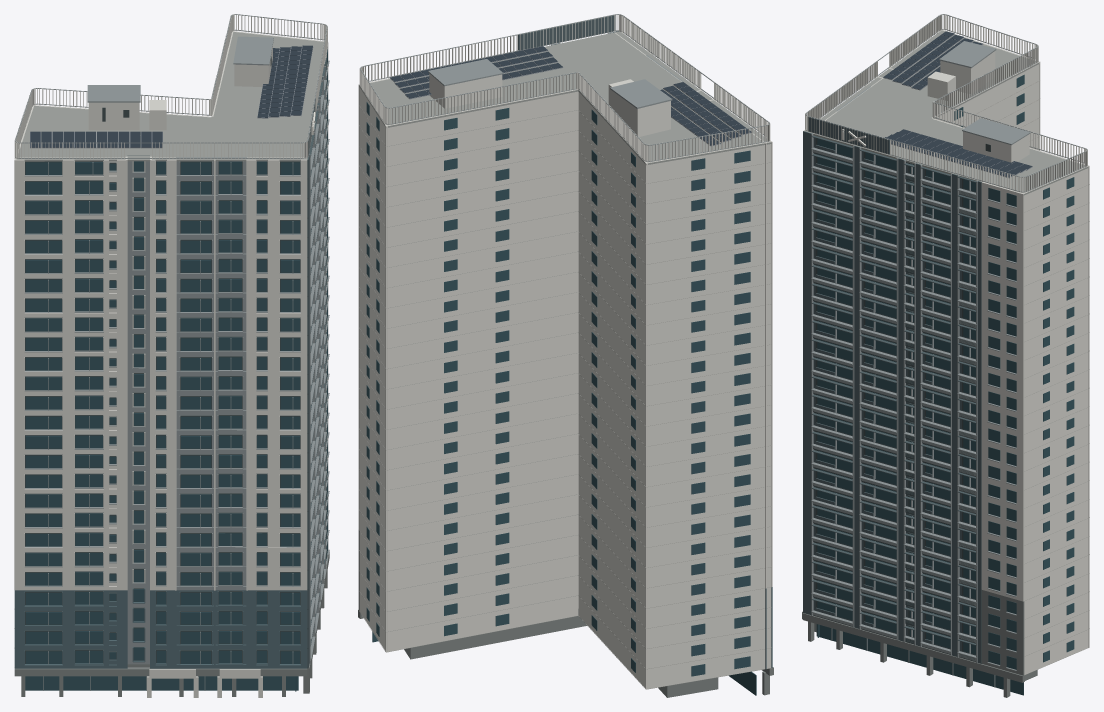
Rendered from bespoke-maple-xi-204.glb.
The picture shows the model from 3 angles, left to right: view 1: azimuth 30°, elevation 25°; view 2: azimuth 150°, elevation 25°; view 3: azimuth 270°, elevation 25°; orthographic projection. The views are drawn at different scales.
Parts seen in each view (by area): view 1: Maple204_interior_inset_volume, Maple204_SW_individual_window_glass, Maple204_SW_central_recess_back, Maple204_SW_window_reveals, Maple204_L_plan_roof_slab, Maple204_SW_recessed_backing, Maple204_SW_arm_PV_bank_photovoltaic_cells, Maple204_SE_dark_opaque_back, Maple204_ground_internal_core, Maple204_SW_arm_PV_bank_frame; view 2: Maple204_interior_inset_volume, Maple204_SW_individual_window_glass, Maple204_L_plan_roof_slab, Maple204_rear_estimated_panel_seam, Maple204_SW_central_recess_back, Maple204_SW_arm_PV_bank_photovoltaic_cells, Maple204_ground_internal_core, Maple204_SE_dark_opaque_back, Maple204_SW_arm_PV_bank_frame; view 3: Maple204_interior_inset_volume, Maple204_SE_dark_opaque_back, Maple204_SW_individual_window_glass, Maple204_SW_central_recess_back, Maple204_L_plan_roof_slab, Maple204_SW_window_reveals, Maple204_ground_internal_core, Maple204_SW_arm_PV_bank_photovoltaic_cells, Maple204_rear_estimated_panel_seam, Maple204_SW_arm_PV_bank_frame.
Boxes of the visible parts, x1,y1,x2,y2 form: Maple204_interior_inset_volume: [14, 14, 328, 697]; Maple204_SW_individual_window_glass: [25, 49, 327, 691]; Maple204_SW_central_recess_back: [15, 14, 329, 690]; Maple204_SW_window_reveals: [25, 56, 308, 668]; Maple204_L_plan_roof_slab: [16, 32, 323, 161]; Maple204_SW_recessed_backing: [14, 588, 307, 668]; Maple204_SW_arm_PV_bank_photovoltaic_cells: [30, 45, 312, 147]; Maple204_SE_dark_opaque_back: [307, 64, 325, 667]; Maple204_ground_internal_core: [14, 477, 329, 696]; Maple204_SW_arm_PV_bank_frame: [30, 46, 313, 148]; Maple204_interior_inset_volume: [358, 14, 772, 689]; Maple204_SW_individual_window_glass: [366, 102, 756, 695]; Maple204_L_plan_roof_slab: [359, 31, 771, 164]; Maple204_rear_estimated_panel_seam: [359, 105, 771, 689]; Maple204_SW_central_recess_back: [360, 14, 769, 161]; Maple204_SW_arm_PV_bank_photovoltaic_cells: [390, 46, 751, 145]; Maple204_ground_internal_core: [358, 530, 773, 697]; Maple204_SE_dark_opaque_back: [518, 15, 618, 50]; Maple204_SW_arm_PV_bank_frame: [390, 48, 751, 146]; Maple204_interior_inset_volume: [803, 14, 1089, 674]; Maple204_SE_dark_opaque_back: [803, 117, 981, 663]; Maple204_SW_individual_window_glass: [816, 74, 1074, 695]; Maple204_SW_central_recess_back: [805, 14, 1087, 687]; Maple204_L_plan_roof_slab: [804, 30, 1088, 195]; Maple204_SW_window_reveals: [813, 138, 990, 661]; Maple204_ground_internal_core: [802, 590, 1037, 697]; Maple204_SW_arm_PV_bank_photovoltaic_cells: [883, 31, 1032, 177]; Maple204_rear_estimated_panel_seam: [955, 80, 1089, 675]; Maple204_SW_arm_PV_bank_frame: [883, 33, 1032, 178].
Size of the model in its own units: 57.57 by 86.8 by 42.29.
